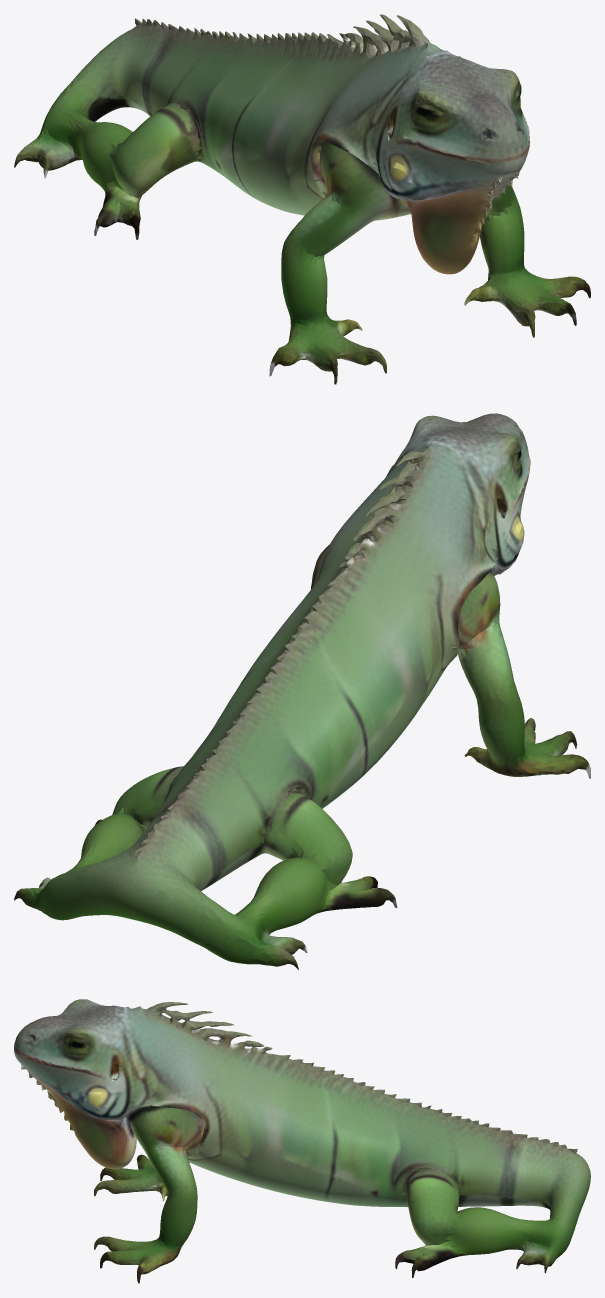
The model's file is iguana.glb.
3 views of the same model, one above another, from view 1: azimuth 30°, elevation 25°; view 2: azimuth 150°, elevation 25°; view 3: azimuth 270°, elevation 25° (orthographic). The views are drawn at different scales.
Parts seen in each view (by area): view 1: model; view 2: model; view 3: model.
Part boxes in pixels (x1,y1,x2,y2): model: (14,14,590,384); model: (14,413,590,969); model: (14,999,590,1283).
Bounding box in the file's own units: 0.907 × 0.8109 × 1.9.
Materials: 1 (1 with a texture image).
